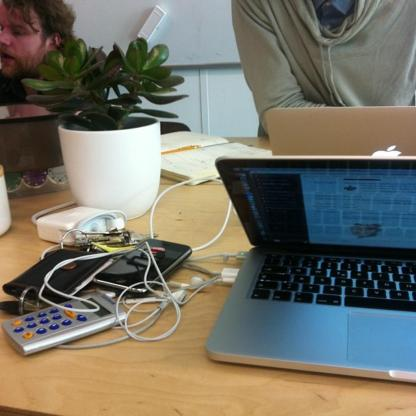board: (204, 155, 416, 387), (266, 107, 415, 156)
